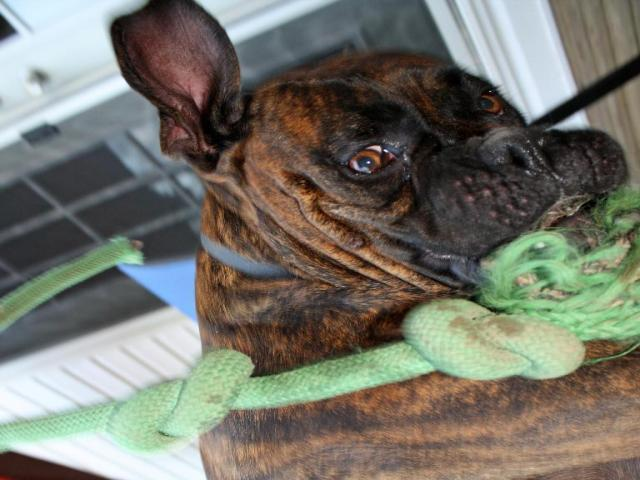Dog: (108, 0, 640, 480)
